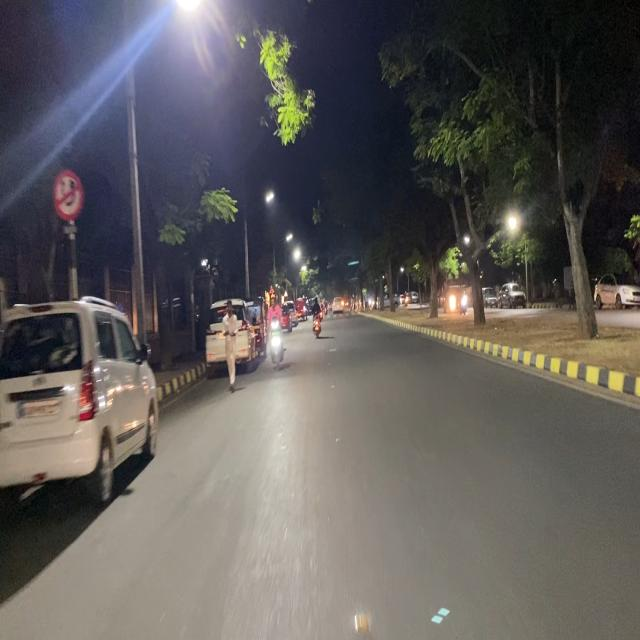bien_cam: (52, 166, 84, 226)
